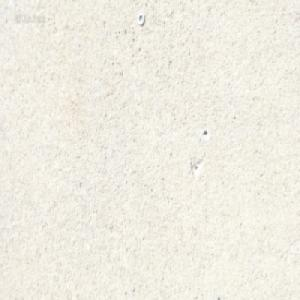Washer: (137, 12, 145, 26)
